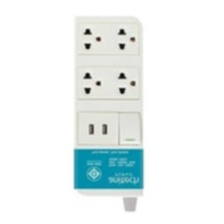three_eye_plug: (66, 12, 148, 199)
